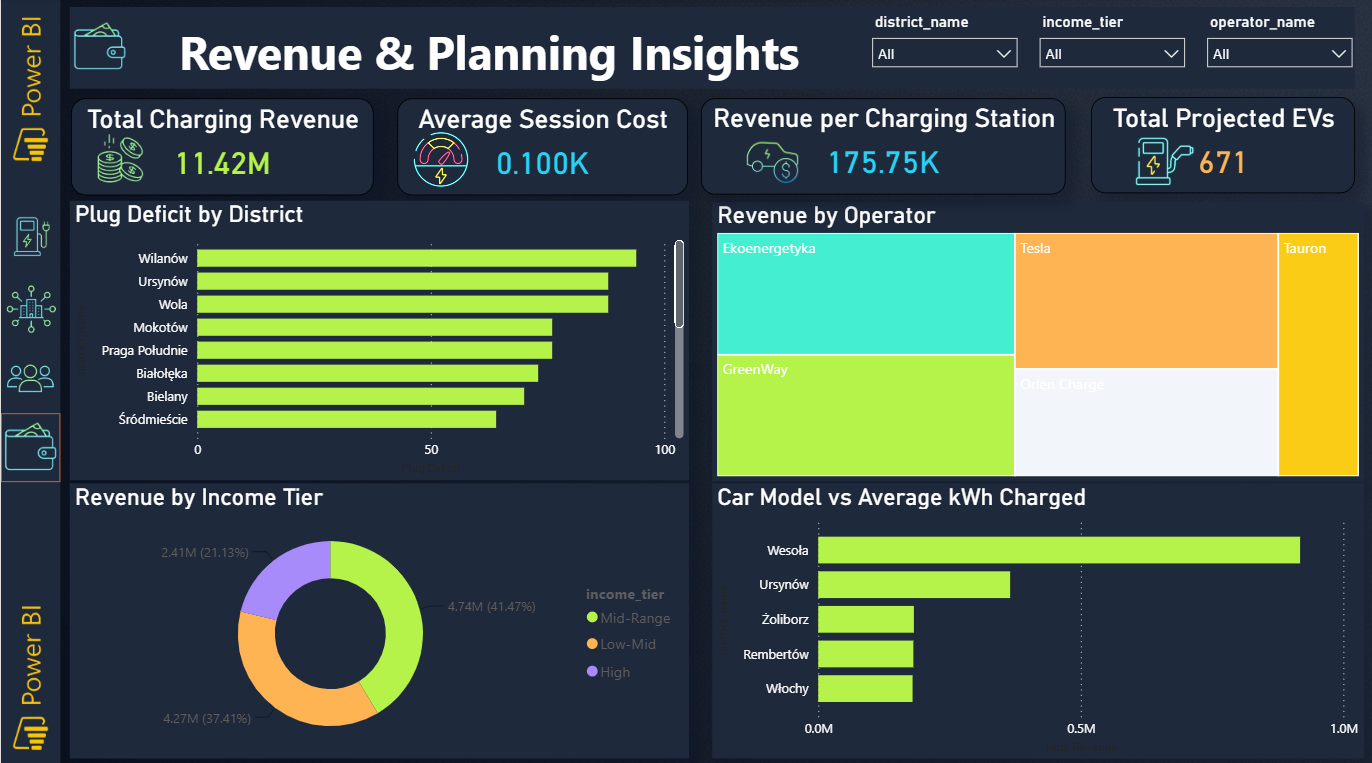

This screenshot's page, from the dashboard's own definition file:
{"tool":"powerbi","page":{"name":"Duplicate of Customer Behavior Analysis","canvas":[1280,720],"ordinal":3},"visuals":[{"type":"shape","box":[0,0,55.5,720.2],"z":0},{"type":"shape","box":[63.9,9.7,1195.6,76],"z":1000},{"type":"textbox","box":[108.1,16.3,691.9,76.7],"z":2000},{"type":"slicer","fields":{"Values":["districts.district_name"]},"box":[799.9,9.7,155.6,65.1],"z":3000},{"type":"slicer","fields":{"Values":["districts.income_tier"]},"box":[955.5,9.7,155.6,65.1],"z":4000},{"type":"slicer","fields":{"Values":["charging_stations.operator_name"]},"box":[1111.1,9.7,155.6,65.1],"z":5000},{"type":"image","box":[8.4,547.7,55.5,172.5],"z":6000},{"type":"image","box":[8.4,0,55.5,172.5],"z":7000},{"type":"card","title":"Total Charging Revenue","fields":{"Values":["charging_sessions.Total Revenue"]},"box":[65,93.8,281.2,90],"z":8000},{"type":"card","title":"Average Session Cost","fields":{"Values":["charging_sessions.Avg Session Cost"]},"box":[369.1,93.8,270,90],"z":9000},{"type":"card","title":"Total Projected EVs","fields":{"Values":["charging_sessions.Plug Deficit"]},"box":[1014,93,245.3,89.5],"z":10000},{"type":"image","box":[0,191.8,55.5,63.9],"z":11000},{"type":"image","box":[0,255.8,55.5,63.9],"z":12000},{"type":"image","box":[0,324.5,55.5,63.9],"z":13000},{"type":"image","box":[0,387.5,55,63.8],"z":14000},{"type":"clusteredBarChart","title":"Plug Deficit by District","fields":{"Category":["districts.district_name"],"Y":["charging_sessions.Plug Deficit"]},"box":[63.8,190,576.2,260],"z":15000},{"type":"treemap","title":"Revenue by Operator","fields":{"Group":["charging_stations.operator_name"],"Values":["charging_sessions.Total Revenue"]},"box":[661.2,191.2,606.2,260],"z":16000},{"type":"donutChart","title":"Revenue by Income Tier","fields":{"Category":["customers.income_tier"],"Y":["charging_sessions.Total Revenue"]},"box":[63.8,452.5,576.2,256.2],"z":17000},{"type":"clusteredBarChart","title":"Car Model vs Average kWh Charged","fields":{"Category":["charging_stations.district_name"],"Y":["charging_sessions.Total Revenue"]},"box":[661.2,452.5,606.2,256.2],"z":18000},{"type":"card","title":"Revenue per Charging Station","fields":{"Values":["charging_sessions.Revenue Per Station"]},"box":[651.2,94.2,339.5,89.5],"z":19000},{"type":"image","box":[378.8,118.8,60,63.8],"z":20000},{"type":"image","box":[76.2,118.8,62.5,63.8],"z":21000},{"type":"image","box":[686.2,120,60,63.8],"z":22000},{"type":"image","box":[1051.2,121.2,60,63.8],"z":23000},{"type":"image","box":[65,17.5,52.5,57.5],"z":24000}]}

Visuals, with their boxes on the page's 1280x720 design canvas (x1, y1, x2, y2). These are canvas units, not pixel positions in the 1372x763 screenshot, which may show the page scaled, cropped or inside an application window:
shape: 0:0:56:720
shape: 64:10:1260:86
textbox: 108:16:800:93
slicer - districts.district_name: 800:10:956:75
slicer - districts.income_tier: 956:10:1111:75
slicer - charging_stations.operator_name: 1111:10:1267:75
image: 8:548:64:720
image: 8:0:64:172
"Total Charging Revenue" card: 65:94:346:184
"Average Session Cost" card: 369:94:639:184
"Total Projected EVs" card: 1014:93:1259:182
image: 0:192:56:256
image: 0:256:56:320
image: 0:324:56:388
image: 0:388:55:451
"Plug Deficit by District" clusteredBarChart: 64:190:640:450
"Revenue by Operator" treemap: 661:191:1267:451
"Revenue by Income Tier" donutChart: 64:452:640:709
"Car Model vs Average kWh Charged" clusteredBarChart: 661:452:1267:709
"Revenue per Charging Station" card: 651:94:991:184
image: 379:119:439:183
image: 76:119:139:183
image: 686:120:746:184
image: 1051:121:1111:185
image: 65:18:118:75
